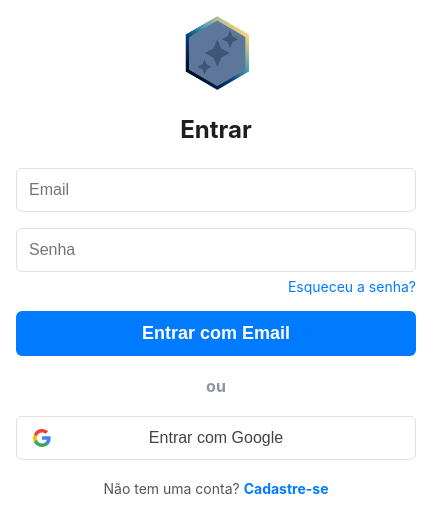
Test case: LoginPage › Navegação entre views › deve exibir o formulário de "Esqueceu a senha" ao clicar no link
Click the text "Esqueceu a senha?" at (352, 287), box [288,278,416,295]
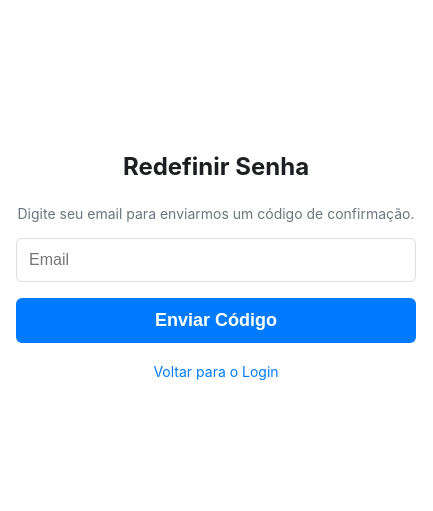
Check: the heading "Redefinir Senha" is shown, box [123,152,309,181]
